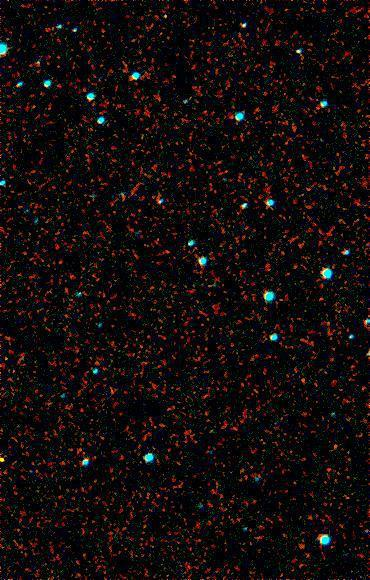star: (0, 445, 15, 475)
